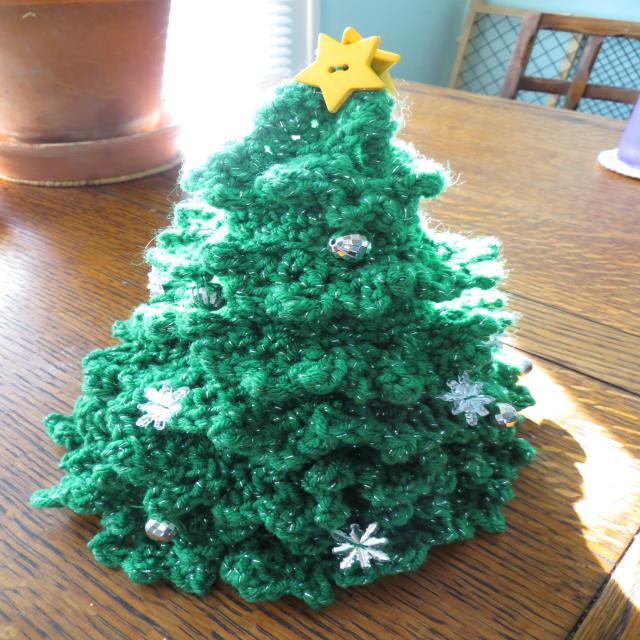Christmas-tree: (143, 40, 525, 640)
